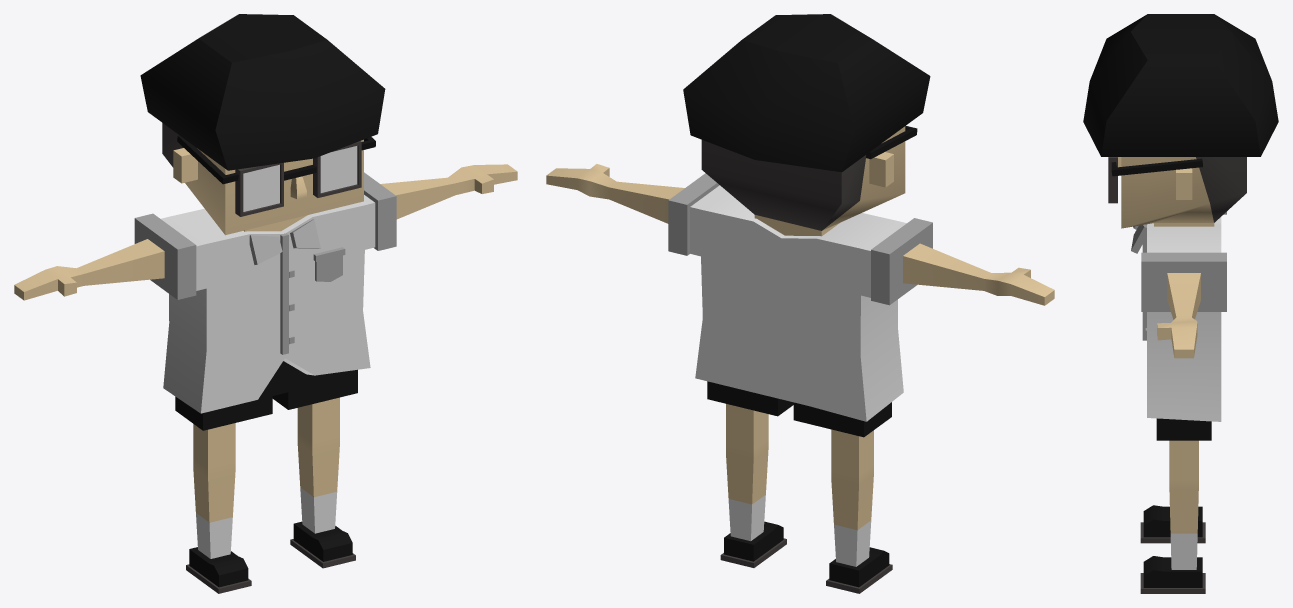
Rendered from Player.fbx.
3 views of the same model, side by side, from view 1: azimuth 30°, elevation 25°; view 2: azimuth 150°, elevation 25°; view 3: azimuth 270°, elevation 25° (orthographic).
Parts seen in each view (by area): view 1: Player_Body, Player_Shirt, Player_Glasses, Player_Shorts; view 2: Player_Body, Player_Shirt, Player_Shorts; view 3: Player_Body, Player_Shirt, Player_Glasses, Player_Shorts.
Part boxes in pixels (x1=…): Player_Body: x1=14, y1=14, x2=517, y2=593; Player_Shirt: x1=134, y1=172, x2=396, y2=413; Player_Glasses: x1=177, y1=135, x2=375, y2=216; Player_Shorts: x1=175, y1=361, x2=357, y2=430; Player_Body: x1=546, y1=14, x2=1054, y2=593; Player_Shirt: x1=668, y1=173, x2=932, y2=421; Player_Shorts: x1=707, y1=381, x2=891, y2=437; Player_Body: x1=1083, y1=14, x2=1278, y2=593; Player_Shirt: x1=1131, y1=211, x2=1226, y2=421; Player_Glasses: x1=1108, y1=157, x2=1202, y2=203; Player_Shorts: x1=1156, y1=418, x2=1211, y2=440.
Size of the model in its own units: 1.71 by 1.76 by 0.5905.
